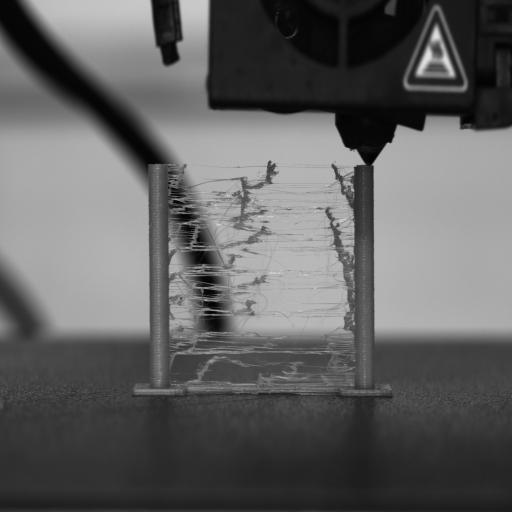spaghetti_and_stringing: (166, 162, 356, 389)
